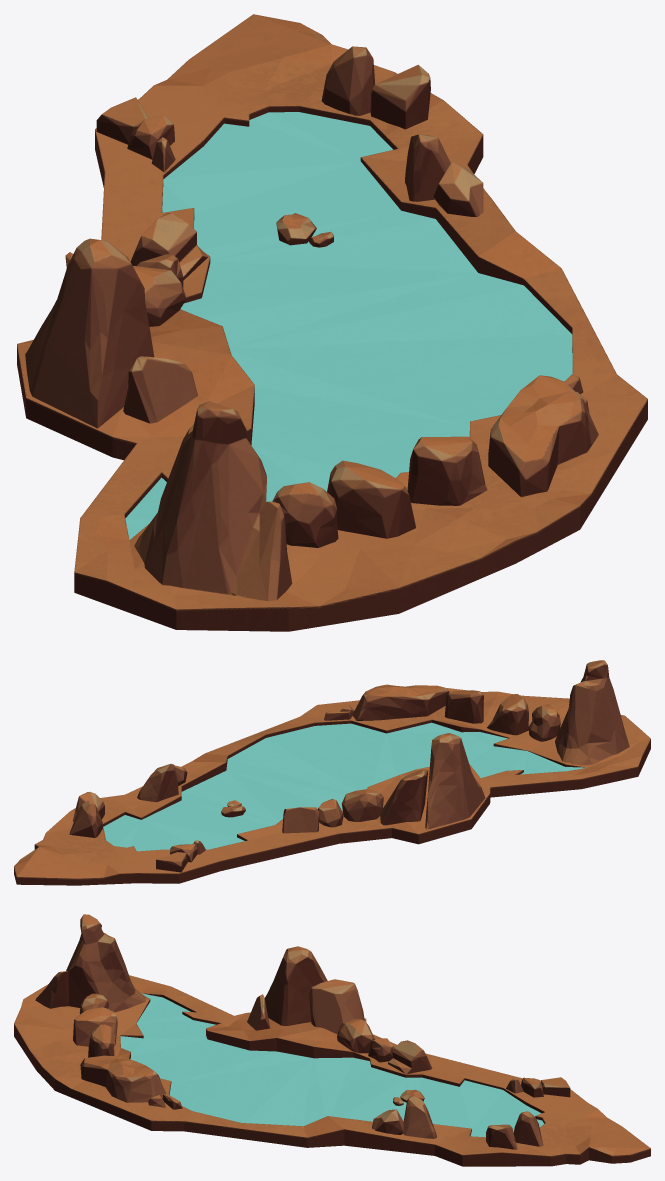
The model's file is lake_fbx_gltf.glb.
The picture shows the model from 3 angles, top to bottom: view 1: azimuth 30°, elevation 25°; view 2: azimuth 150°, elevation 25°; view 3: azimuth 270°, elevation 25°; orthographic projection. The views are drawn at different scales.
Parts seen in each view (by area): view 1: lake.1; view 2: lake.1; view 3: lake.1.
Boxes of the visible parts, x1,y1,x2,y2 form: lake.1: (17, 14, 647, 631); lake.1: (14, 660, 650, 885); lake.1: (14, 914, 650, 1166).
Size of the model in its own units: 0.0875 by 0.0204 by 0.1277.
1 material, 1 textured.
